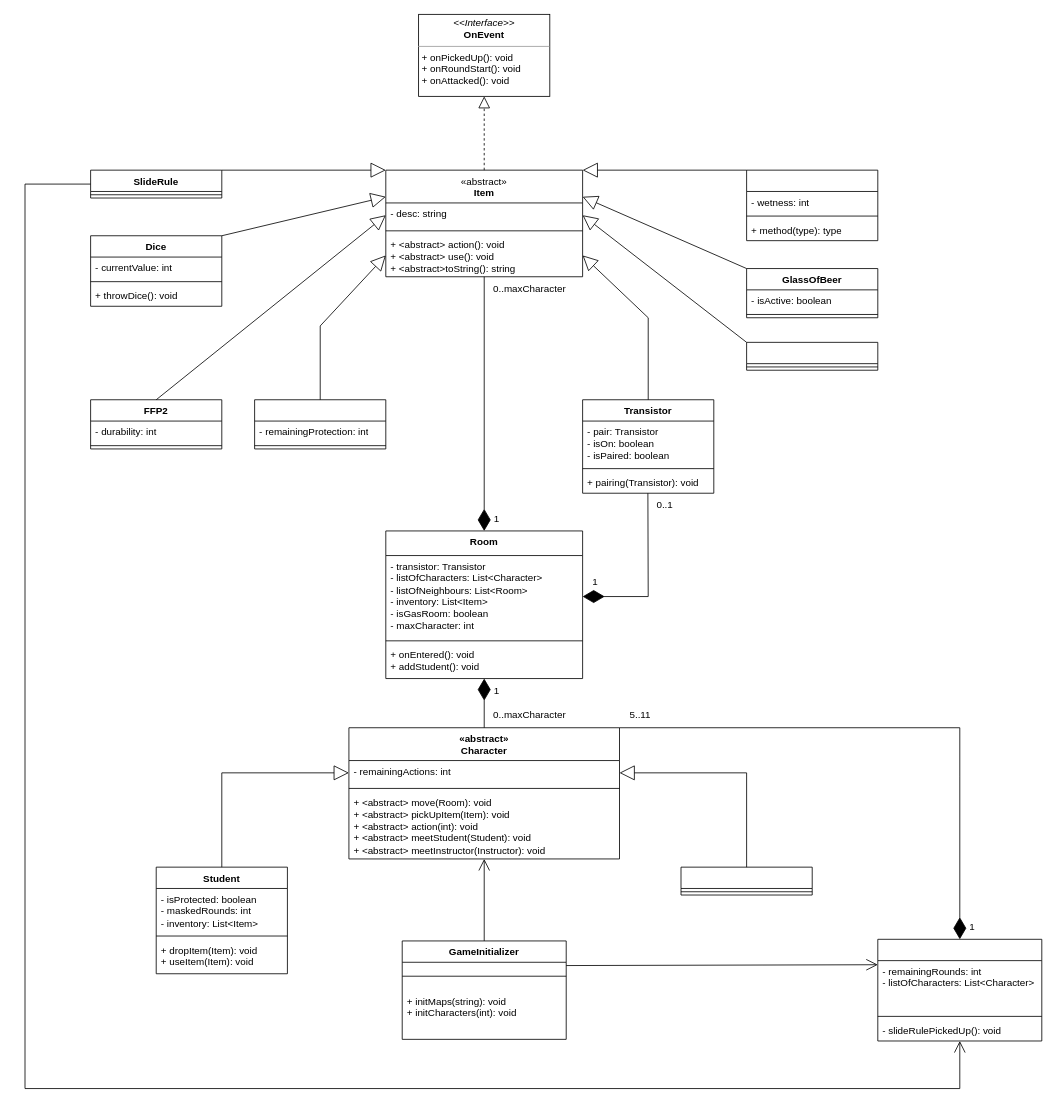
This 1056x1114 diagram has some shape labels left out. Each missing label, with the box of its shape:
Camambert: (746, 342, 878, 370)
GameController: (877, 938, 1042, 1041)
Instructor: (680, 866, 812, 895)
TVSZ: (254, 399, 386, 449)
WetRag: (746, 169, 878, 241)
